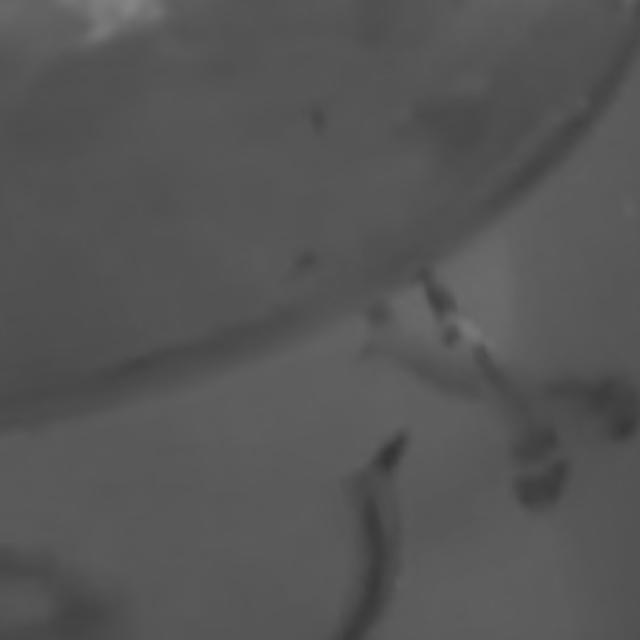larvas: (397, 263, 595, 520), (354, 311, 640, 442), (339, 442, 412, 628), (0, 546, 116, 640)
